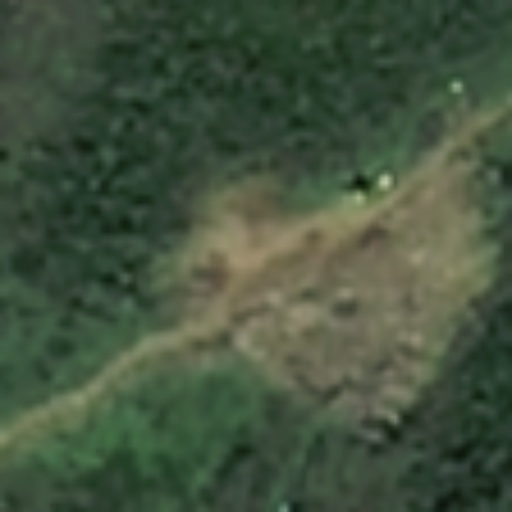landslide: (203, 189, 451, 384)
